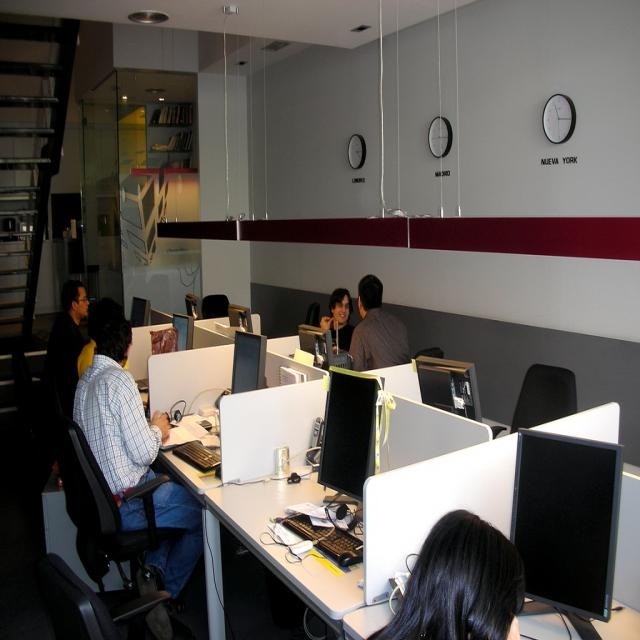chair: (54, 412, 174, 629), (34, 553, 173, 640), (496, 363, 578, 438), (304, 302, 320, 326)
desk: (109, 360, 493, 618)
keyboard: (316, 528, 363, 564), (174, 440, 222, 471)
person: (72, 298, 204, 602), (370, 510, 526, 640), (42, 282, 92, 418), (349, 273, 411, 371), (319, 287, 360, 353)
tv: (509, 420, 624, 629), (317, 366, 381, 502), (230, 330, 268, 394)
